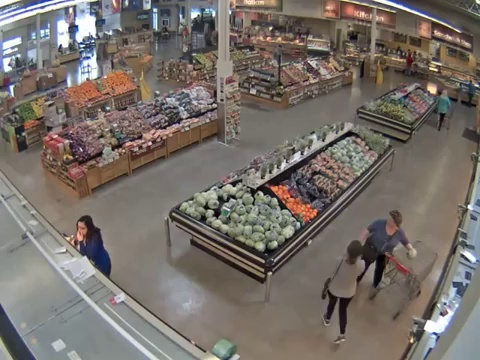face: (76, 219, 89, 238), (386, 213, 398, 227)
